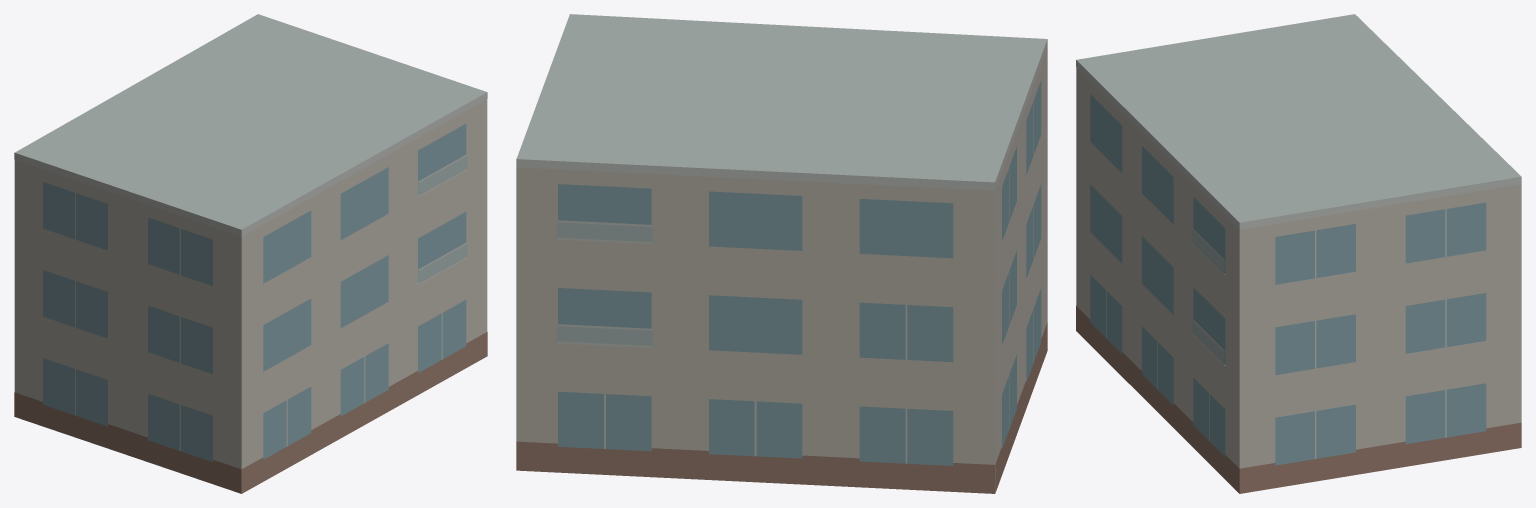
Rendered from survey-upis-32985912.glb.
3 views of the same model, side by side, from view 1: azimuth 30°, elevation 25°; view 2: azimuth 150°, elevation 25°; view 3: azimuth 270°, elevation 25° (orthographic). The views are drawn at different scales.
Visible parts, largest first — view 1: survey-upis-32985912.tmp; view 2: survey-upis-32985912.tmp; view 3: survey-upis-32985912.tmp.
Part boxes in pixels (x1=…): survey-upis-32985912.tmp: x1=14, y1=14, x2=487, y2=493; survey-upis-32985912.tmp: x1=516, y1=14, x2=1047, y2=493; survey-upis-32985912.tmp: x1=1076, y1=14, x2=1521, y2=493.
Bounding box in the file's own units: 15.12 × 9.15 × 13.63.
